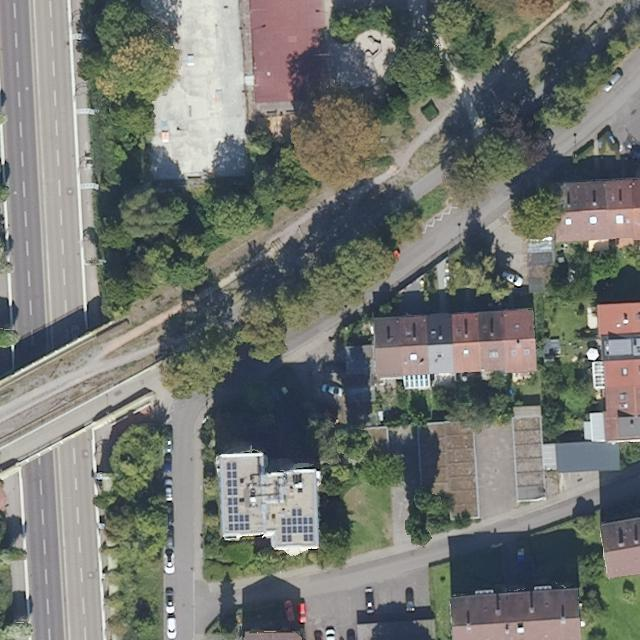PV: (224, 460, 251, 532), (279, 506, 315, 544)
